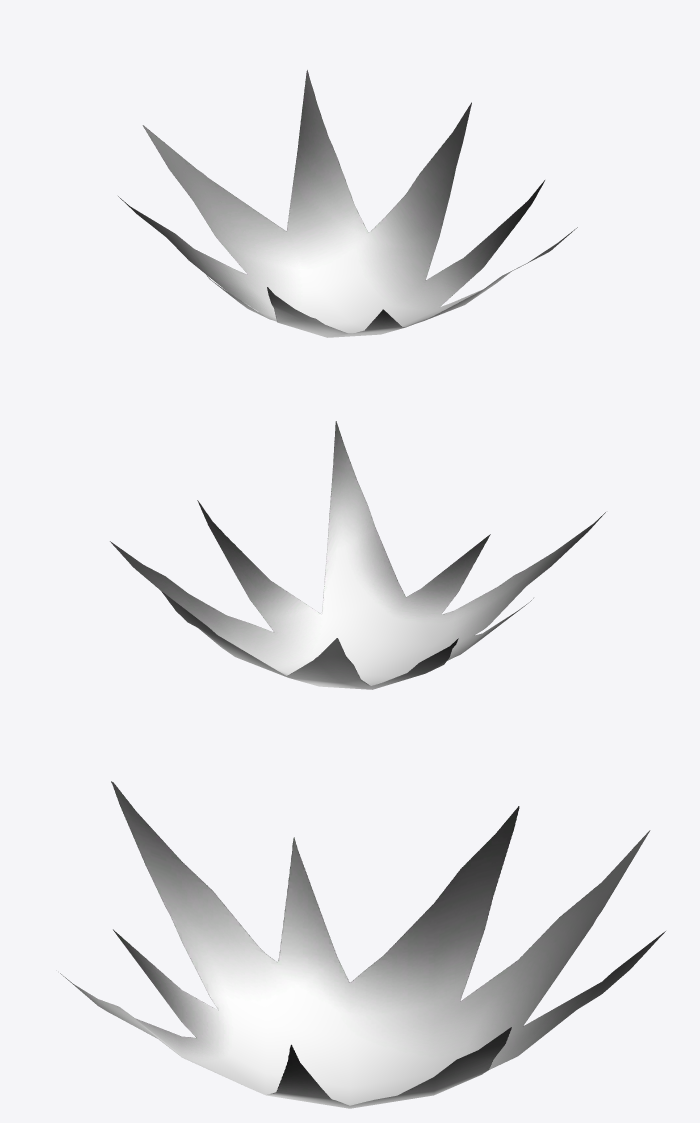
File: epm_wc_com_wt1_laser_ce01.model.dae
3 renders of one model, top to bottom at view 1: azimuth 30°, elevation 25°; view 2: azimuth 150°, elevation 25°; view 3: azimuth 270°, elevation 25°, orthographic. The views are drawn at different scales.
Visible parts, largest first — view 1: epm_wc_com_wt1_laser_ce01; view 2: epm_wc_com_wt1_laser_ce01; view 3: epm_wc_com_wt1_laser_ce01.
Boxes of the visible parts, x1=… form: epm_wc_com_wt1_laser_ce01: x1=118, y1=70, x2=577, y2=337; epm_wc_com_wt1_laser_ce01: x1=110, y1=421, x2=605, y2=689; epm_wc_com_wt1_laser_ce01: x1=60, y1=781, x2=665, y2=1108.
Size of the model in its own units: 1 by 1 by 0.3732.
1 material, 1 textured.
